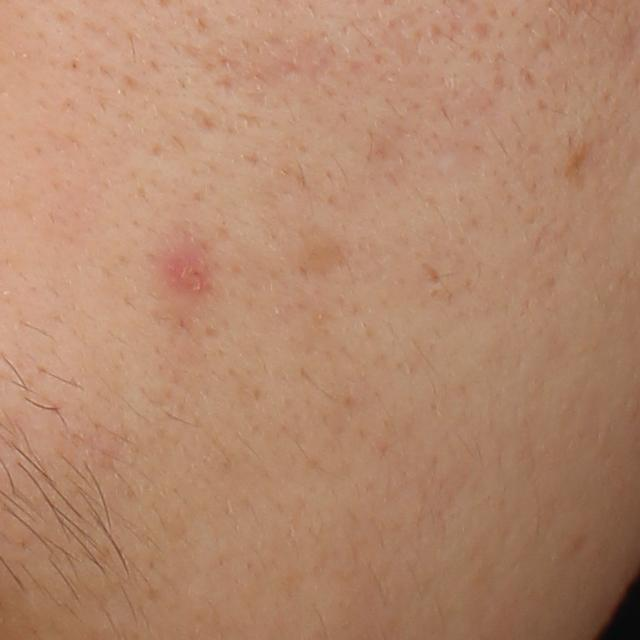papule: (166, 249, 208, 293)
